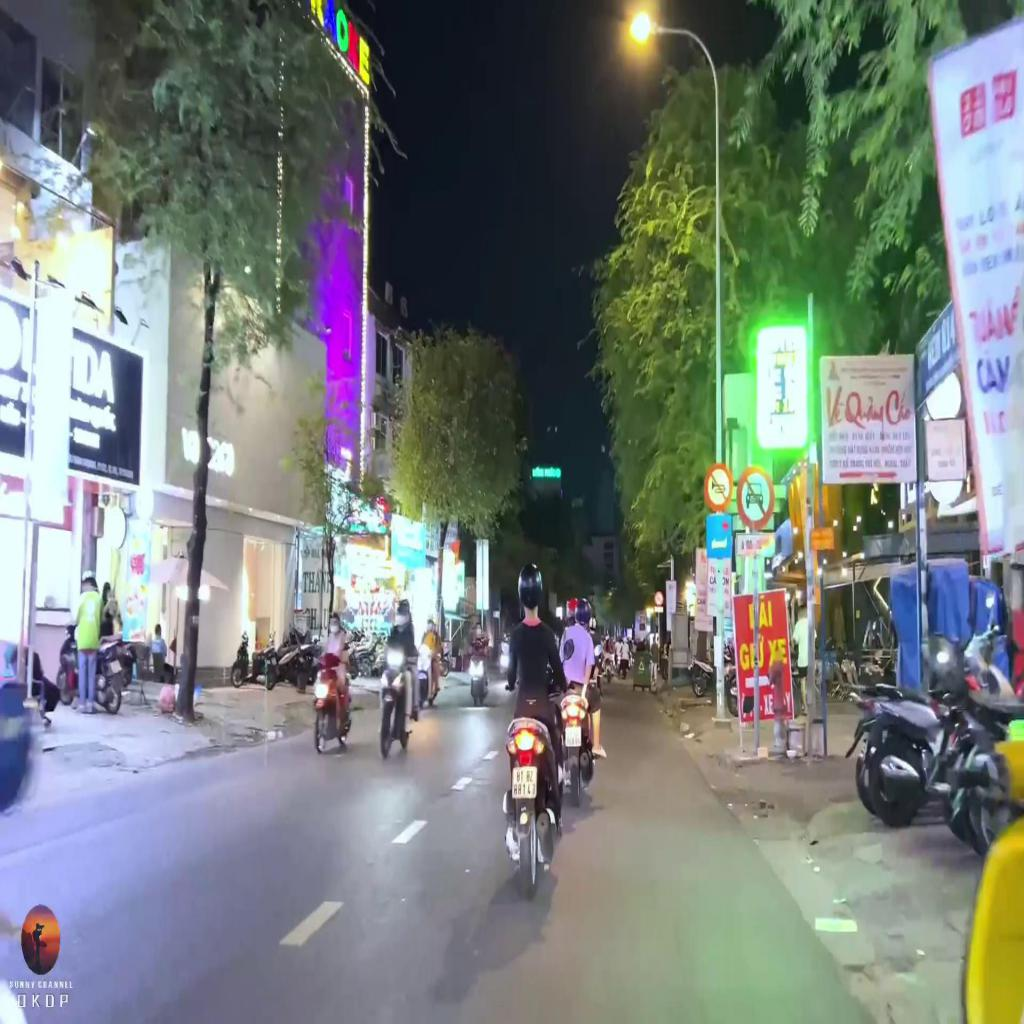cam_o_to: (736, 465, 774, 529), (654, 591, 664, 605)
cam_su_dung_coi: (705, 463, 732, 511)
khac: (707, 516, 732, 557), (735, 532, 775, 556), (654, 607, 664, 612)
